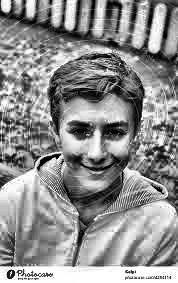happy: (44, 70, 141, 219)
